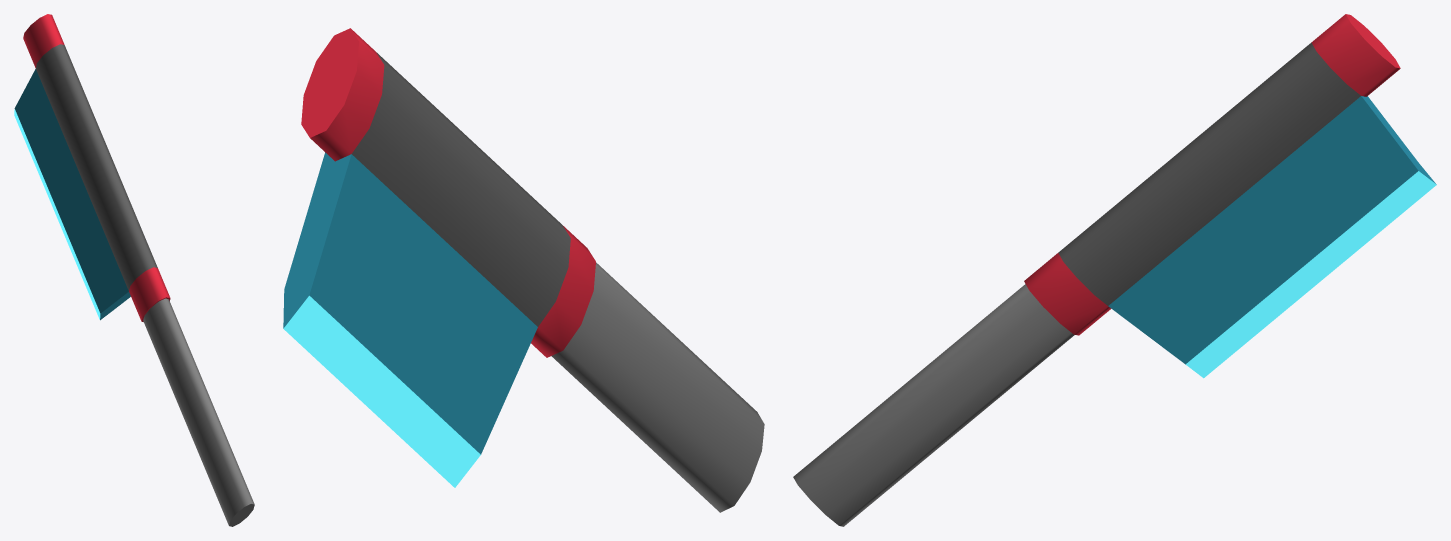
Rendered from Knife.fbx.
3 views of the same model, side by side, from view 1: azimuth 30°, elevation 25°; view 2: azimuth 150°, elevation 25°; view 3: azimuth 270°, elevation 25° (orthographic). The views are drawn at different scales.
Visible parts, largest first — view 1: Knife; view 2: Knife; view 3: Knife.
Part boxes in pixels (x1,y1,x2,y2): Knife: (14,14,254,526); Knife: (283,28,764,512); Knife: (793,14,1436,526).
Bounding box in the file's own units: 23.74 × 422 × 480.
